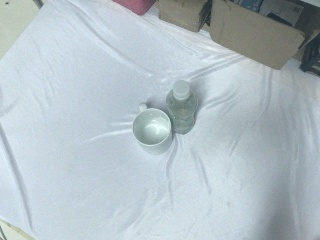bottle: (166, 80, 198, 135)
box: (210, 1, 318, 69), (158, 1, 212, 31)
cup: (132, 106, 174, 156)
